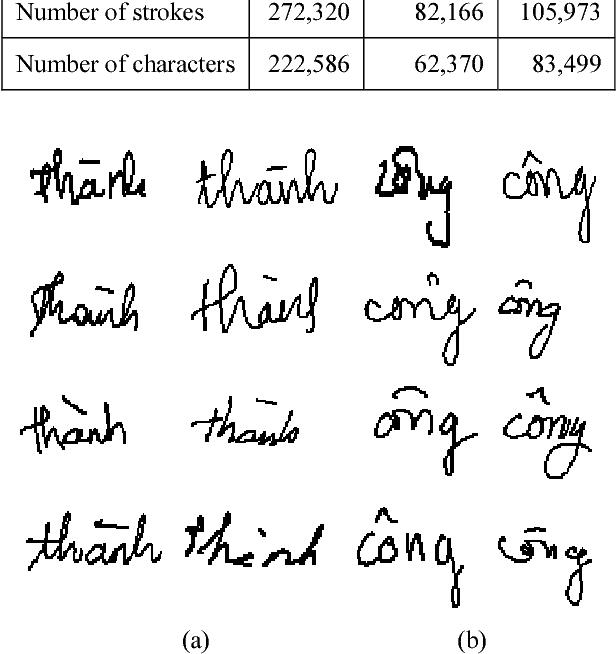text: (23, 140, 601, 252), (22, 500, 595, 610), (15, 382, 597, 485), (24, 260, 565, 369), (13, 48, 238, 80), (11, 0, 208, 28), (266, 52, 353, 78), (519, 0, 603, 26), (265, 0, 351, 25), (412, 49, 485, 78), (530, 50, 602, 78), (411, 0, 485, 25), (180, 626, 213, 654), (456, 627, 488, 654)
